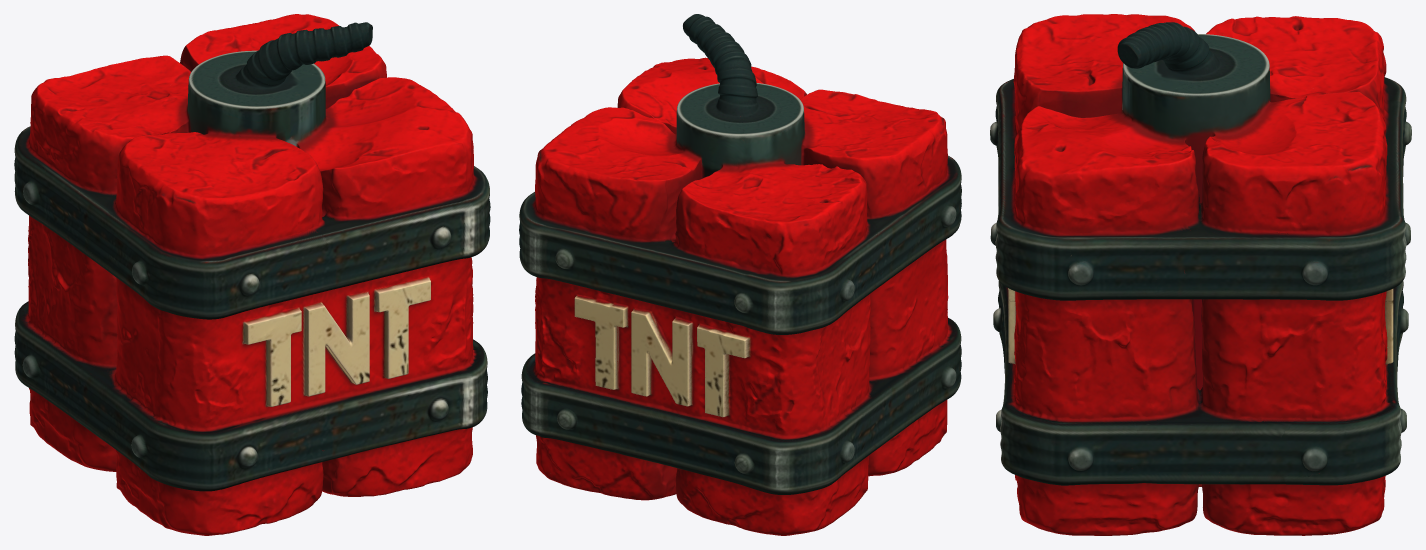
File: tnt.glb
3 renders of one model, left to right at view 1: azimuth 30°, elevation 25°; view 2: azimuth 150°, elevation 25°; view 3: azimuth 270°, elevation 25°, orthographic. The views are drawn at different scales.
Bounding box in the file's own units: 1.61 × 1.9 × 1.58.
Materials: 1 (1 with a texture image).
